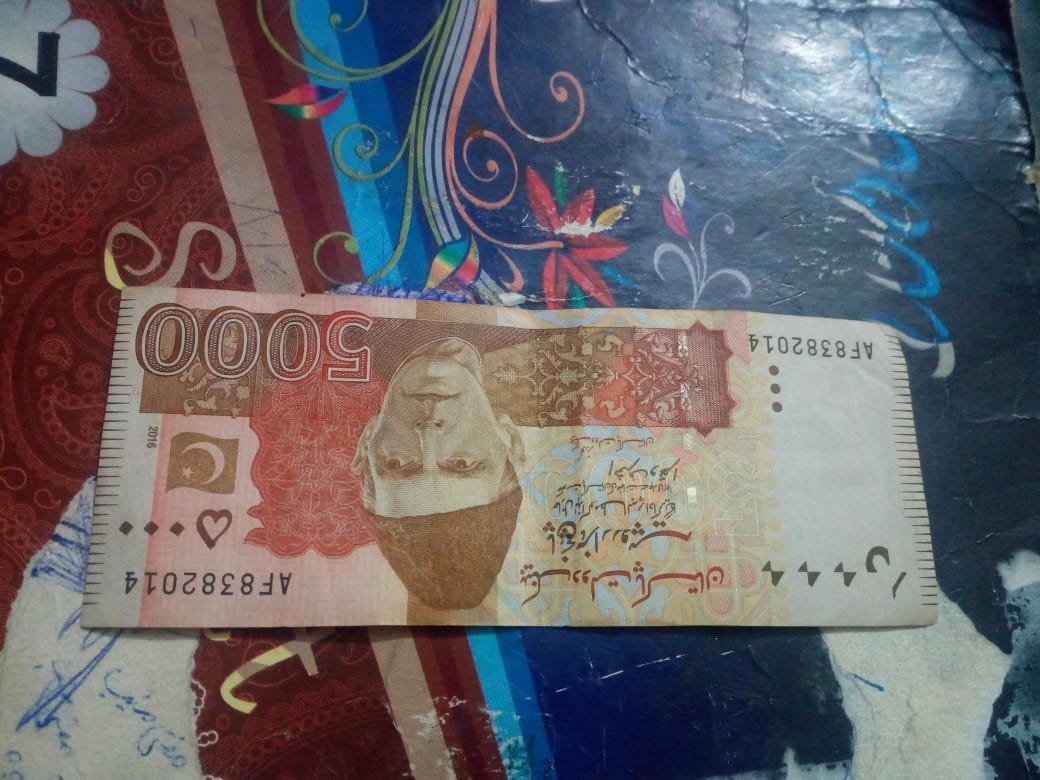5000 rupee: (64, 277, 945, 659)
